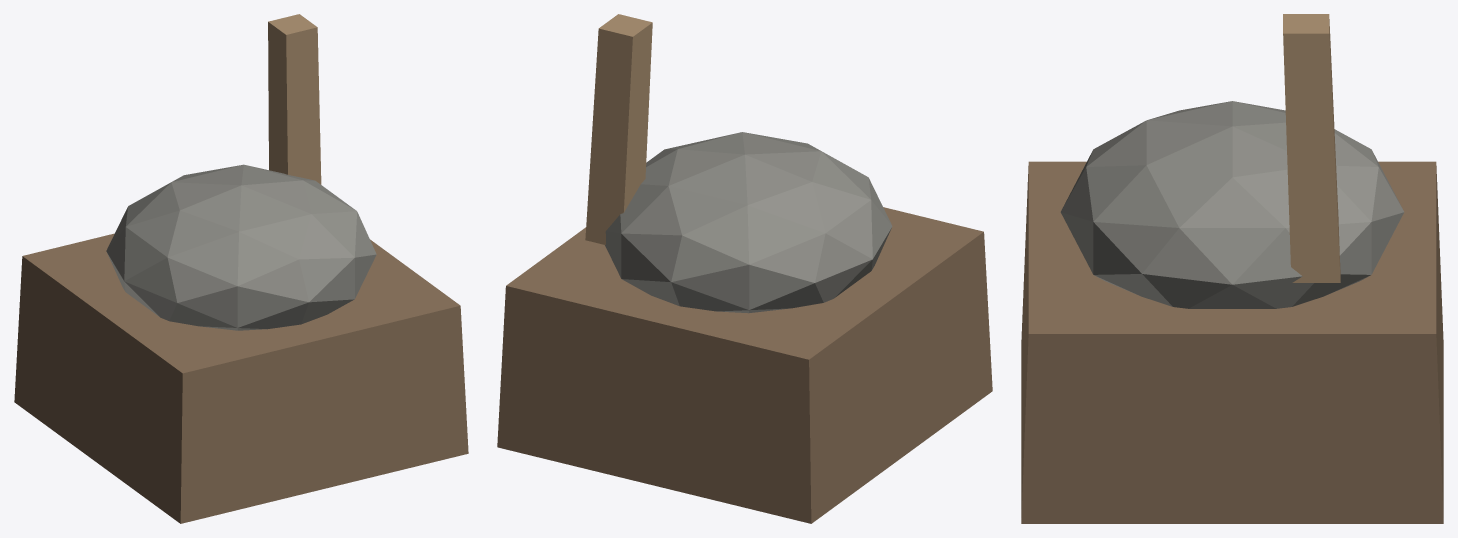
Rendered from station_pestle.glb.
The picture shows the model from 3 angles, left to right: view 1: azimuth 30°, elevation 25°; view 2: azimuth 150°, elevation 25°; view 3: azimuth 270°, elevation 25°; orthographic projection. The views are drawn at different scales.
Parts seen in each view (by area): view 1: part_0, part_1, part_2; view 2: part_0, part_1, part_2; view 3: part_0, part_1, part_2.
Part boxes in pixels (x1=…): part_0: x1=14, y1=233, x2=468, y2=523; part_1: x1=106, y1=164, x2=376, y2=330; part_2: x1=268, y1=14, x2=321, y2=184; part_0: x1=497, y1=207, x2=992, y2=523; part_1: x1=605, y1=132, x2=892, y2=313; part_2: x1=585, y1=14, x2=652, y2=244; part_0: x1=1021, y1=161, x2=1443, y2=523; part_1: x1=1060, y1=101, x2=1404, y2=308; part_2: x1=1283, y1=14, x2=1340, y2=282.
Size of the model in its own units: 0.86 by 1.03 by 0.86.
